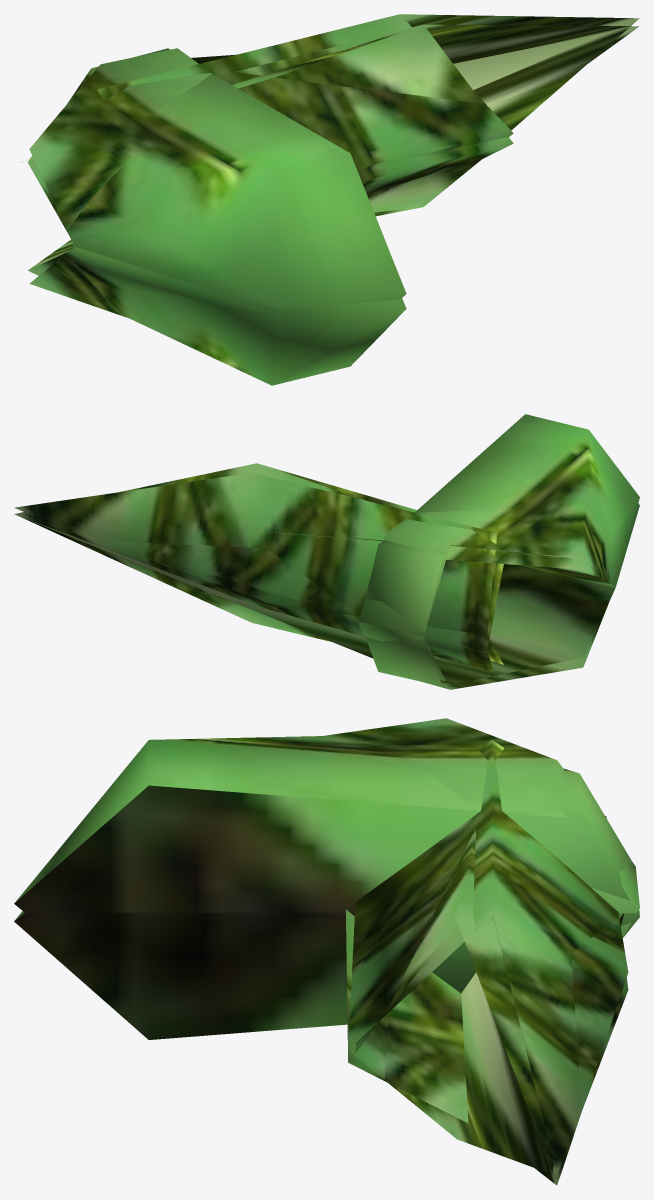
Rendered from A_M_FEET.glb.
The picture shows the model from 3 angles, top to bottom: view 1: azimuth 30°, elevation 25°; view 2: azimuth 150°, elevation 25°; view 3: azimuth 270°, elevation 25°; orthographic projection. The views are drawn at different scales.
Parts seen in each view (by area): view 1: A_M_shoes; view 2: A_M_shoes; view 3: A_M_shoes.
Part boxes in pixels (x1,y1,x2,y2): A_M_shoes: (27, 14, 639, 385); A_M_shoes: (14, 414, 639, 689); A_M_shoes: (14, 718, 639, 1185).
Size of the model in its own units: 3.91 by 1.21 by 2.7.
1 material, 1 textured.
